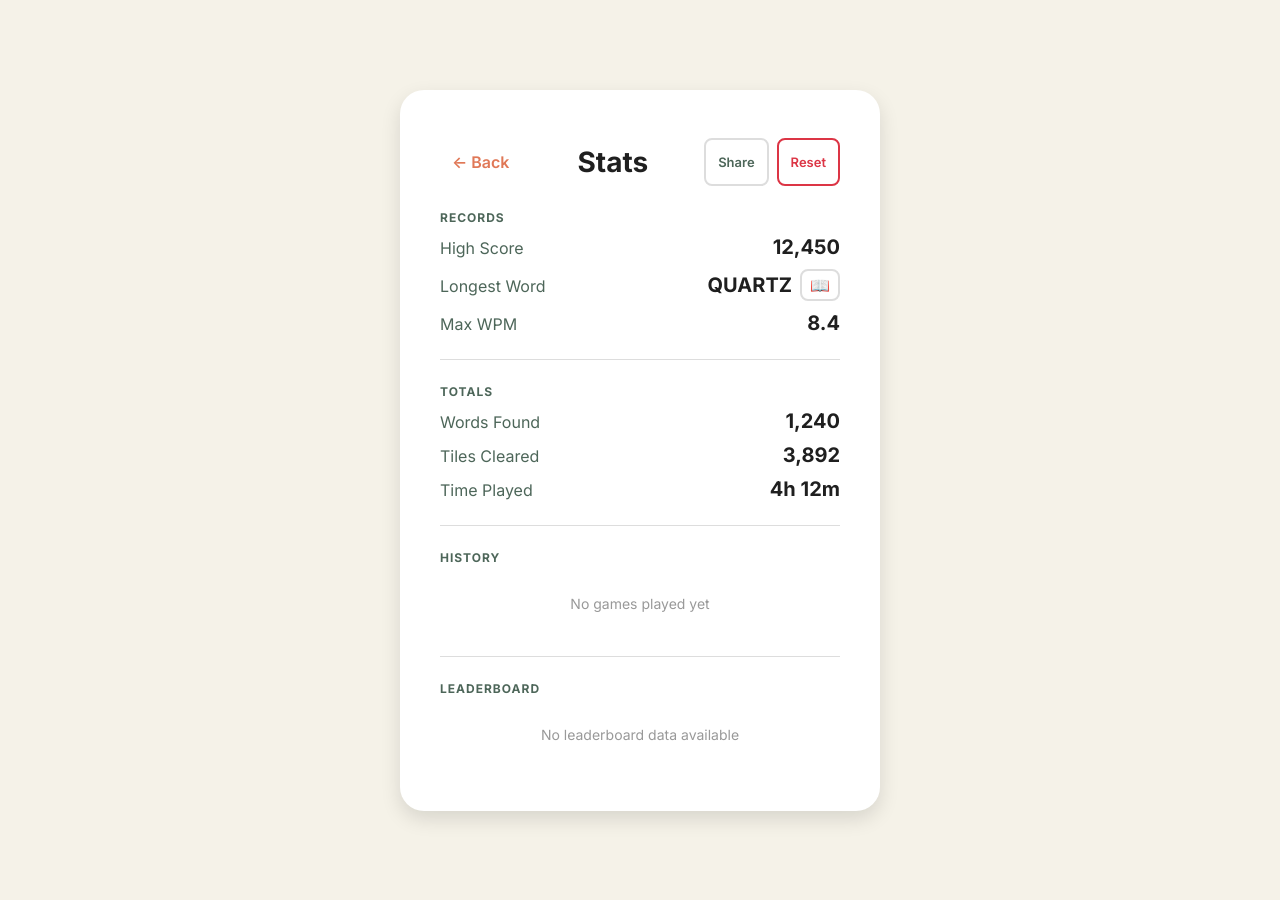
StatsScreen › shows confirm dialog when Reset is clicked, hides on Cancel
This screenshot has width=1280, height=900.
Click the button "Reset". click: (808, 162)
box: [777,138,840,186]
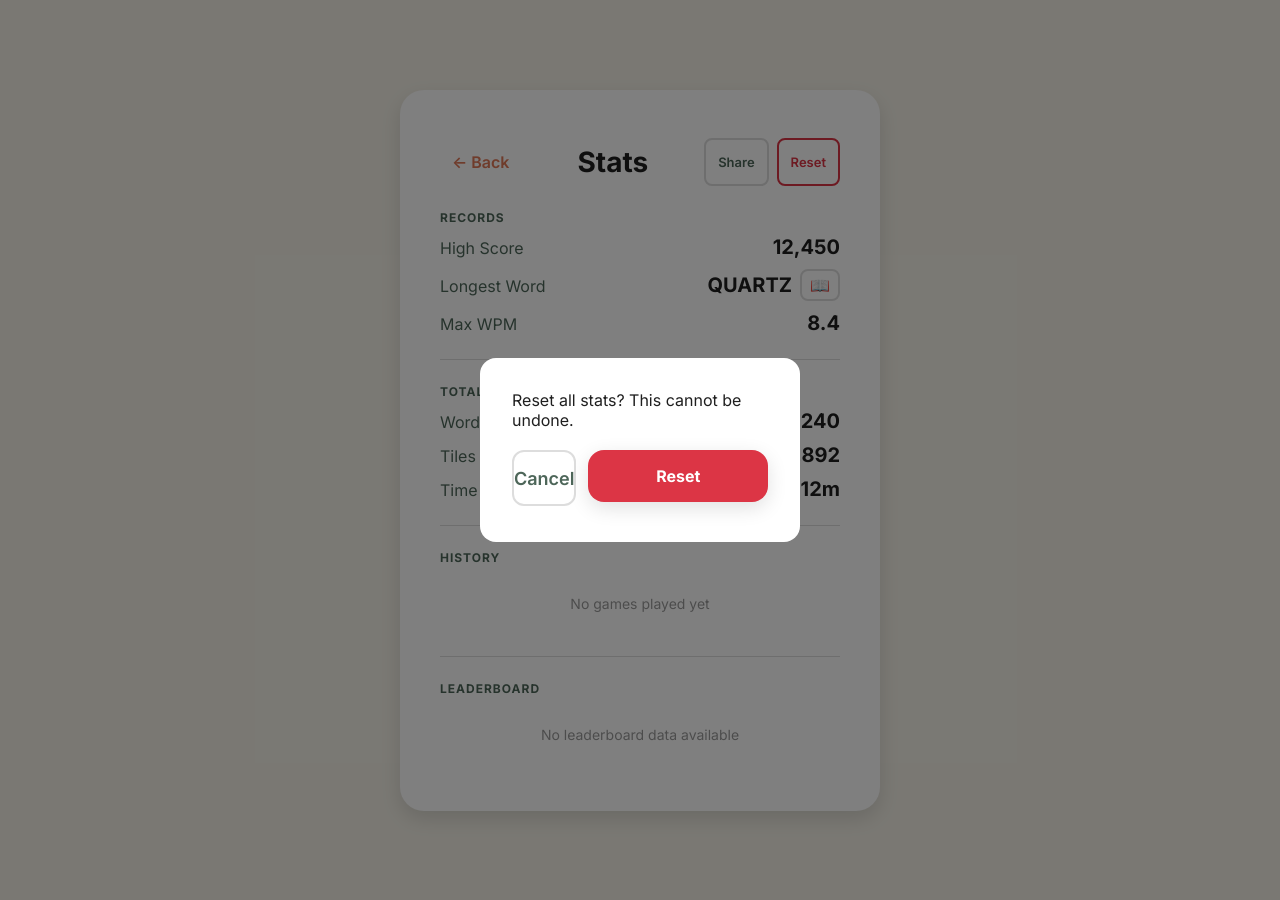
Check: the text "Reset all stats? This cannot be undone." is shown, box [512,390,768,430]
Click the button "Cancel". click: (544, 478)
box: [512,450,576,506]
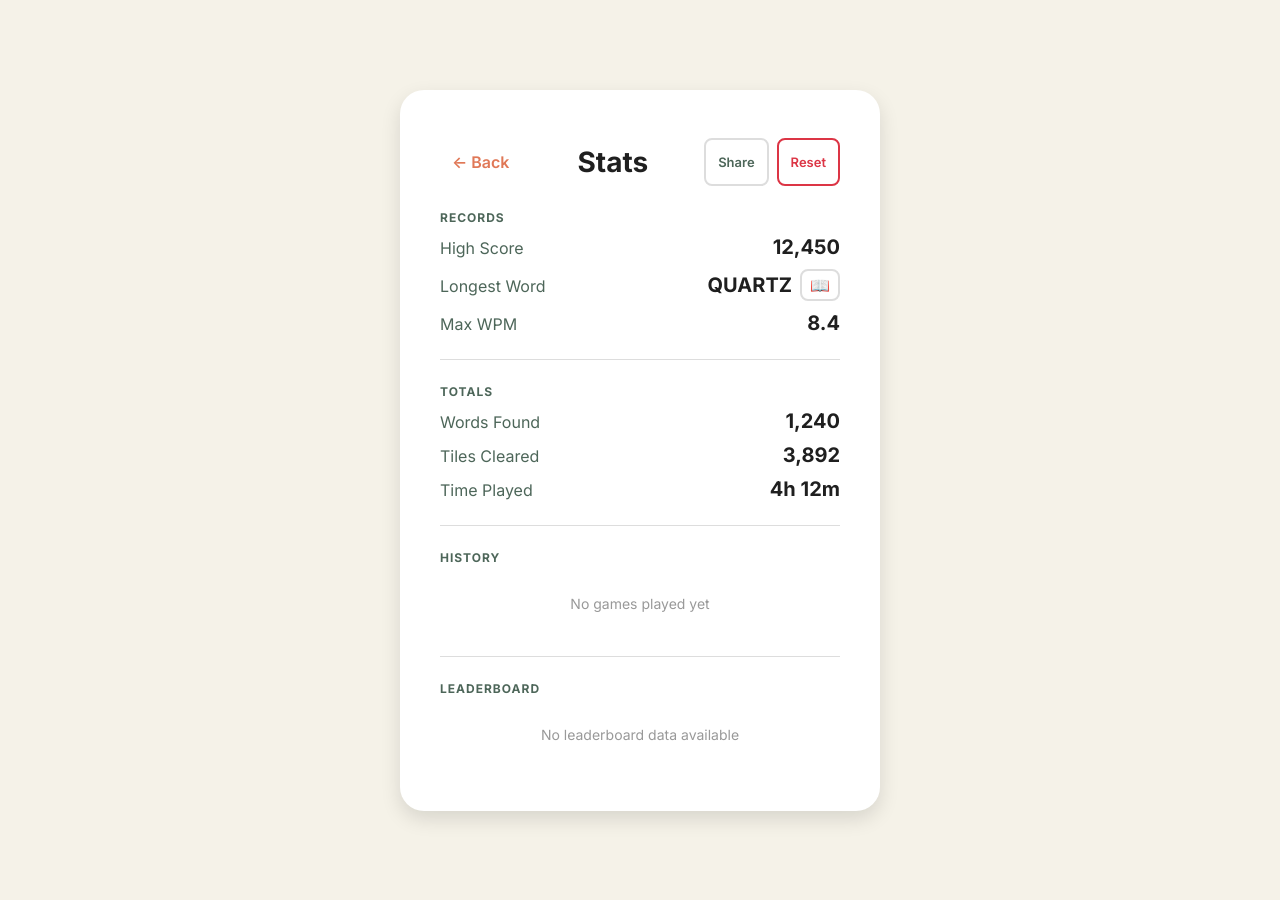
Check: the text "Reset all stats? This cannot be undone." is gone
